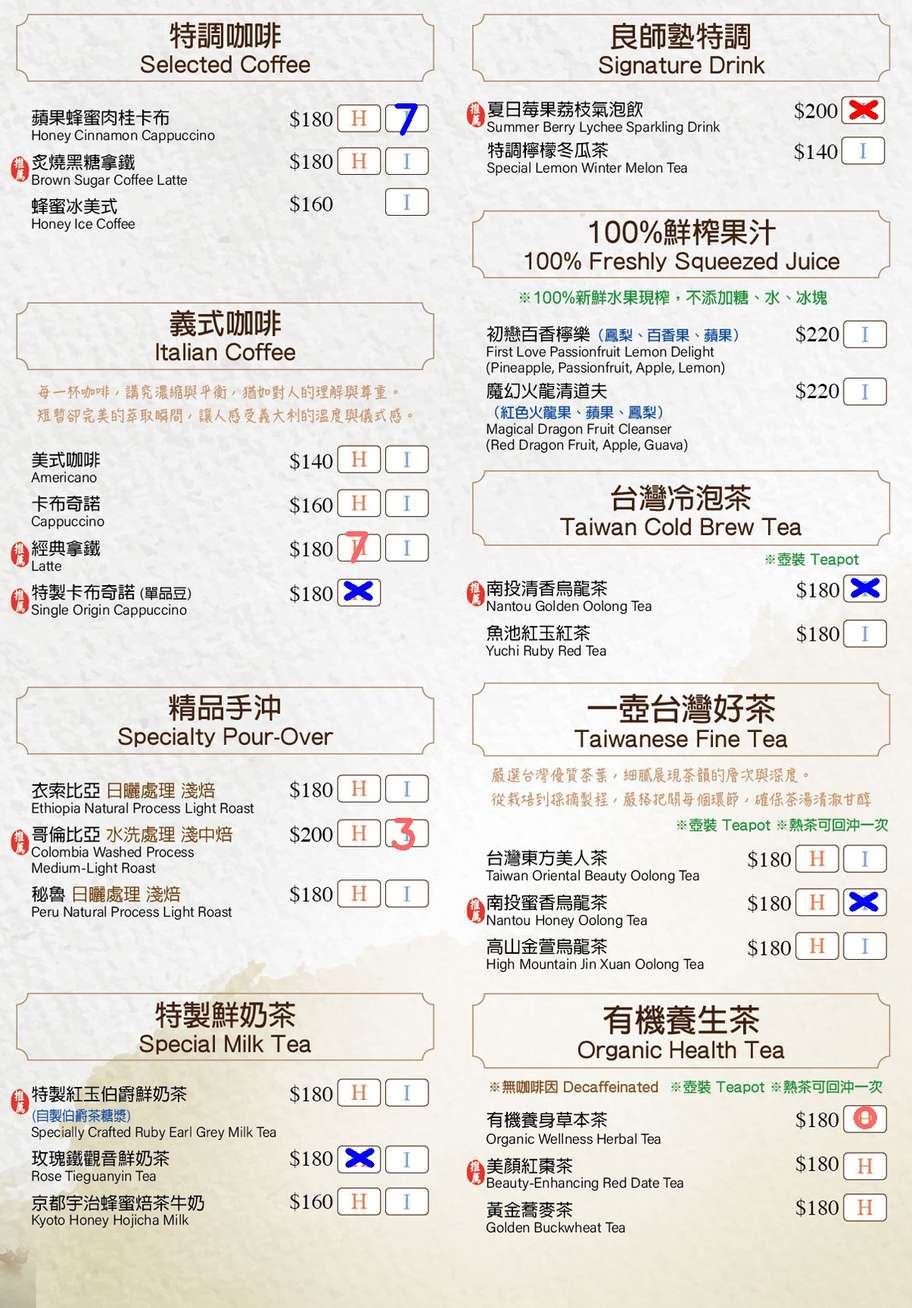marked_hollow: (846, 1106, 885, 1129)
marked_number_3: (385, 822, 424, 845)
marked_number_7: (388, 107, 427, 131), (339, 535, 378, 559)
marked_x: (844, 890, 883, 914), (846, 576, 885, 600), (844, 98, 883, 122), (339, 579, 378, 603), (340, 1146, 379, 1170)
